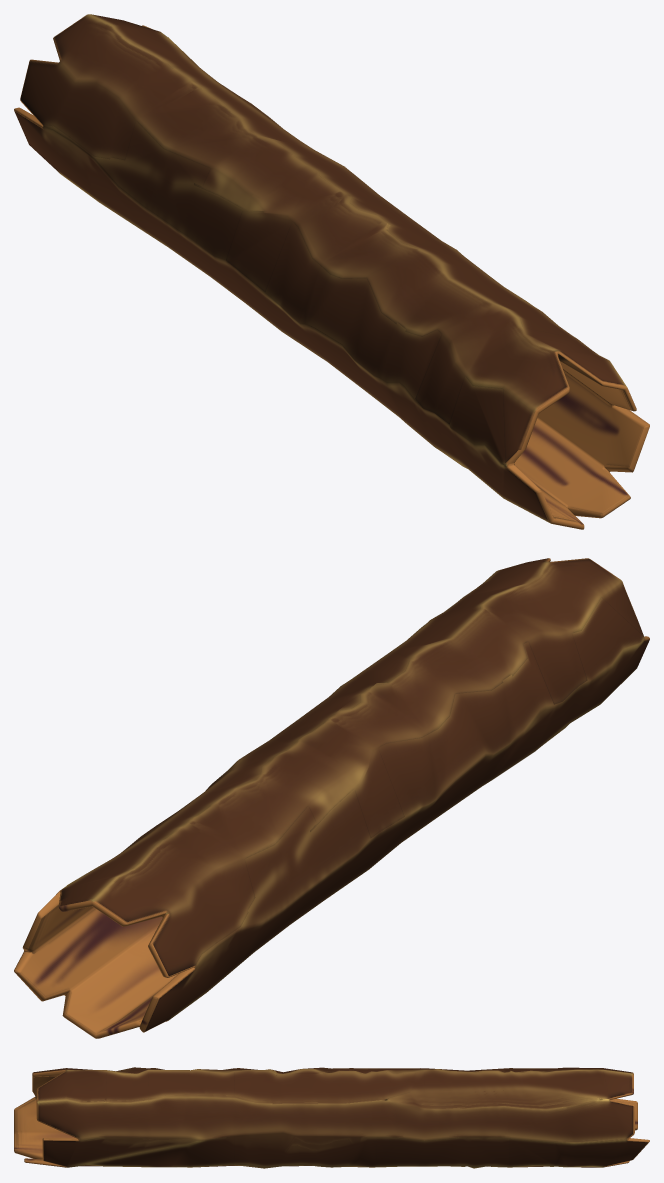
The model's file is log.glb.
The picture shows the model from 3 angles, top to bottom: view 1: azimuth 30°, elevation 25°; view 2: azimuth 150°, elevation 25°; view 3: azimuth 270°, elevation 25°; orthographic projection. The views are drawn at different scales.
Parts seen in each view (by area): view 1: Cylinder; view 2: Cylinder; view 3: Cylinder.
Part boxes in pixels (x1,y1,x2,y2): Cylinder: (14,14,649,529); Cylinder: (14,558,649,1038); Cylinder: (14,1067,649,1168).
Bounding box in the file's own units: 5.1 × 5.07 × 30.54.
Materials: 1 (1 with a texture image).
